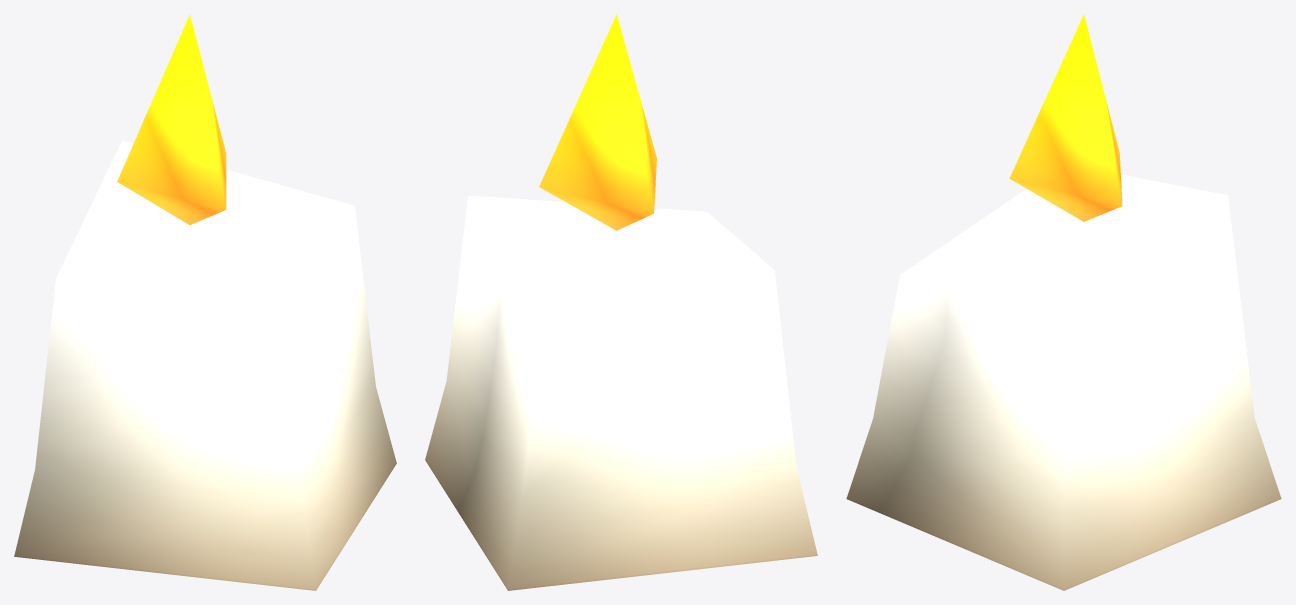
File: deco_cathedral_candle_B.FBX
3 renders of one model, left to right at view 1: azimuth 30°, elevation 25°; view 2: azimuth 150°, elevation 25°; view 3: azimuth 270°, elevation 25°, orthographic. The views are drawn at different scales.
Parts seen in each view (by area): view 1: deco_cathedral_candle_B; view 2: deco_cathedral_candle_B; view 3: deco_cathedral_candle_B.
Part boxes in pixels (x1,y1,x2,y2): deco_cathedral_candle_B: (14, 14, 396, 590); deco_cathedral_candle_B: (425, 14, 817, 590); deco_cathedral_candle_B: (846, 14, 1281, 590).
Bounding box in the file's own units: 0.3665 × 0.4483 × 0.3665.
Materials: 1 (1 with a texture image).
